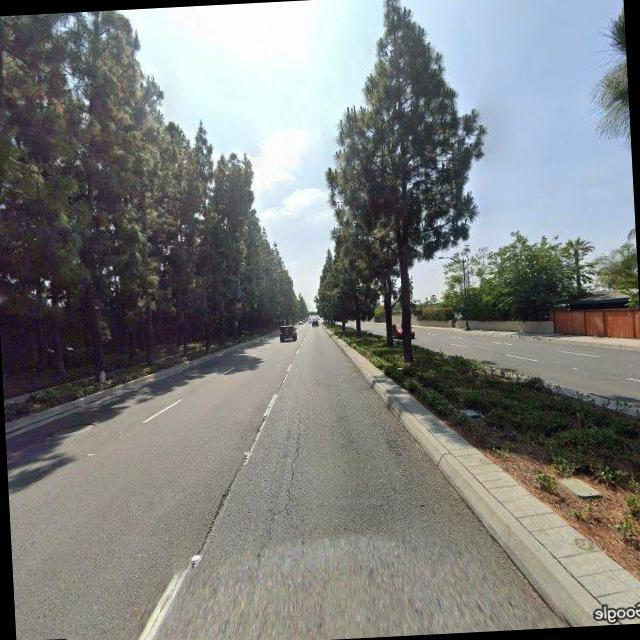crack: (272, 410, 312, 530)
